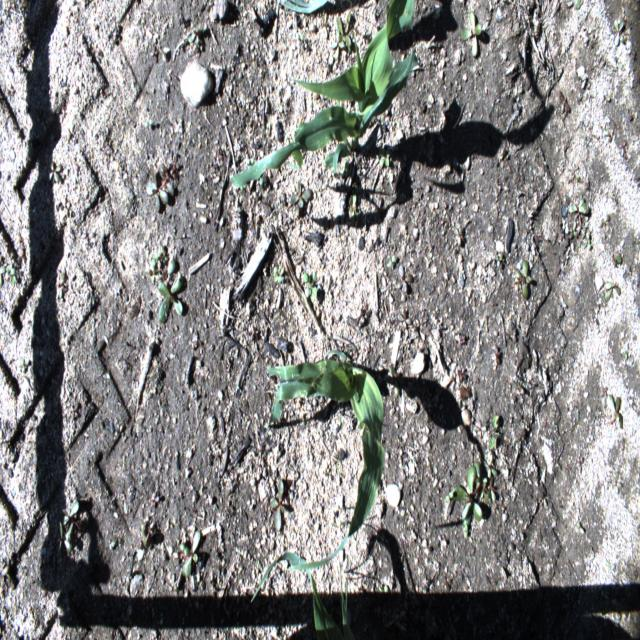crop: (250, 348, 387, 604), (229, 27, 417, 198), (308, 572, 352, 637), (276, 0, 335, 24), (385, 1, 416, 39)
weed: (446, 454, 498, 544), (157, 254, 186, 337), (560, 194, 596, 252), (265, 467, 290, 542), (144, 160, 174, 218), (456, 10, 486, 64), (177, 527, 206, 582), (330, 12, 356, 63), (1, 242, 26, 294), (288, 176, 314, 222), (513, 252, 535, 306), (388, 253, 410, 304), (486, 396, 504, 457), (296, 262, 323, 302), (601, 382, 625, 426), (42, 153, 68, 191), (349, 299, 375, 333), (158, 149, 182, 184), (394, 311, 425, 338), (148, 243, 168, 283), (598, 274, 624, 304), (52, 524, 73, 560), (186, 14, 206, 50), (611, 11, 629, 48), (136, 523, 152, 564), (608, 467, 626, 502), (453, 217, 468, 258), (66, 398, 85, 430), (554, 86, 571, 120), (617, 129, 632, 164), (294, 30, 316, 53), (492, 244, 506, 279), (54, 269, 69, 300), (268, 263, 284, 292), (349, 187, 363, 220), (330, 442, 347, 468), (17, 354, 32, 382), (611, 248, 632, 268), (376, 151, 394, 174), (622, 339, 636, 367), (573, 516, 588, 540), (569, 396, 581, 423), (64, 502, 80, 521), (108, 534, 120, 552), (599, 214, 613, 227), (144, 117, 152, 134)
